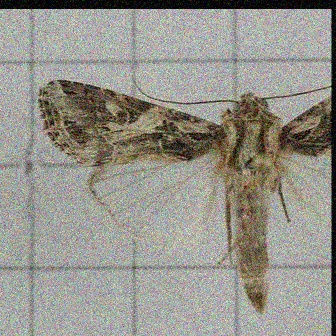Spodoptera litura: (37, 75, 331, 313)
